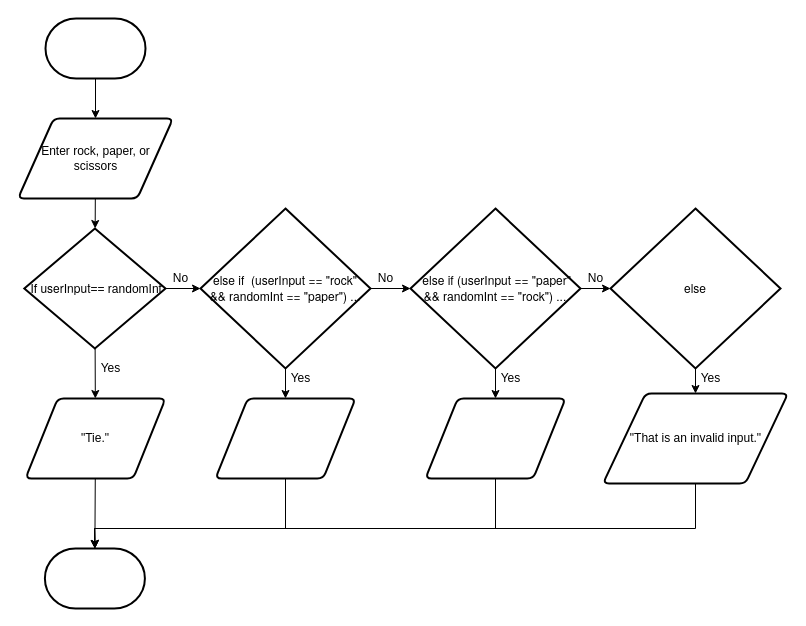
Image size: 806x626. Some labels were removed from this diagram. Each missing label, with the centre of its shape:
"You lose.": pixel 285 438
"You win!": pixel 495 438
Start: pixel 95 48
Stop: pixel 94 578
